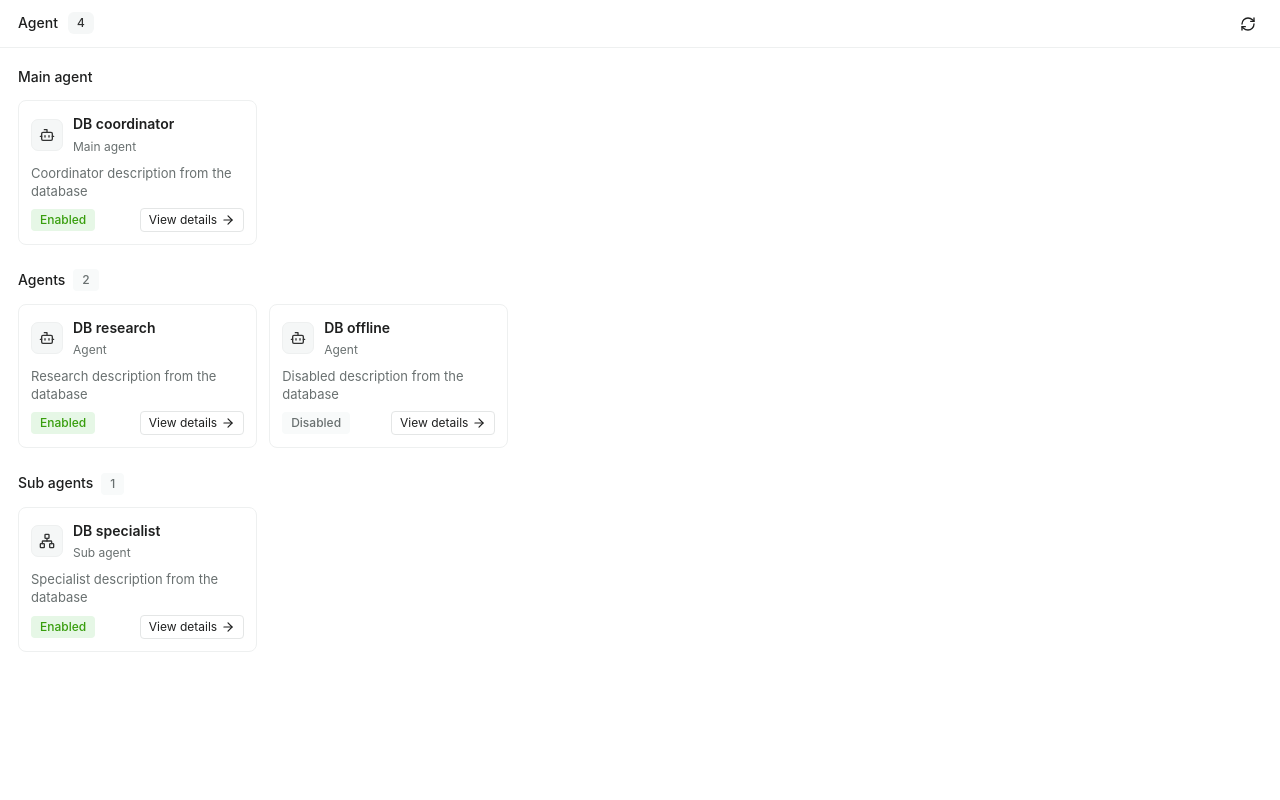
Test: discards the unsaved draft when closing with Cancel
Step 1. Click the button named "View DB research details" → coordinates (138, 376), box [19,305,256,447]
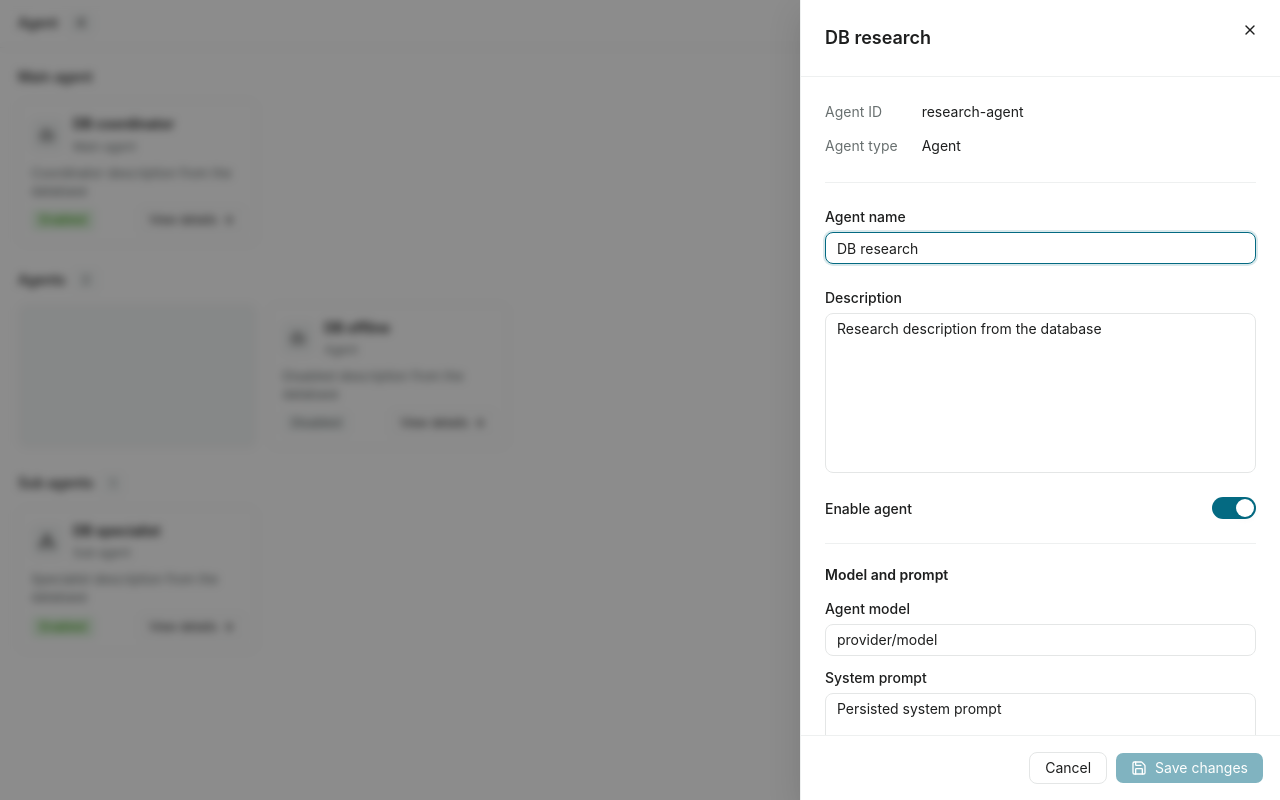
Step 2. Replace the text in the field labelled "Agent name" with "Unsaved name" → coordinates (1040, 248), box [825,232,1256,264]
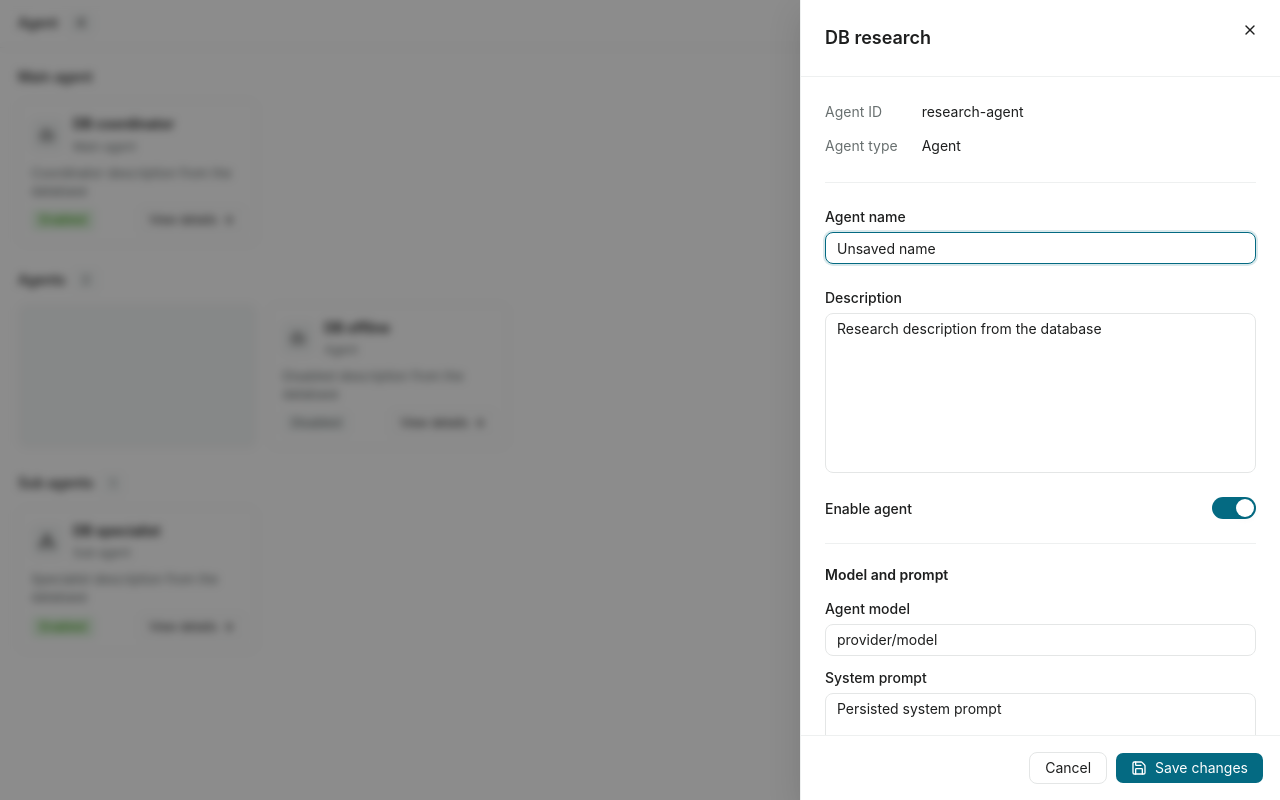
Step 3. Replace the text in the text box labelled "Description" with "Unsaved description" → coordinates (1040, 393), box [825,313,1256,473]
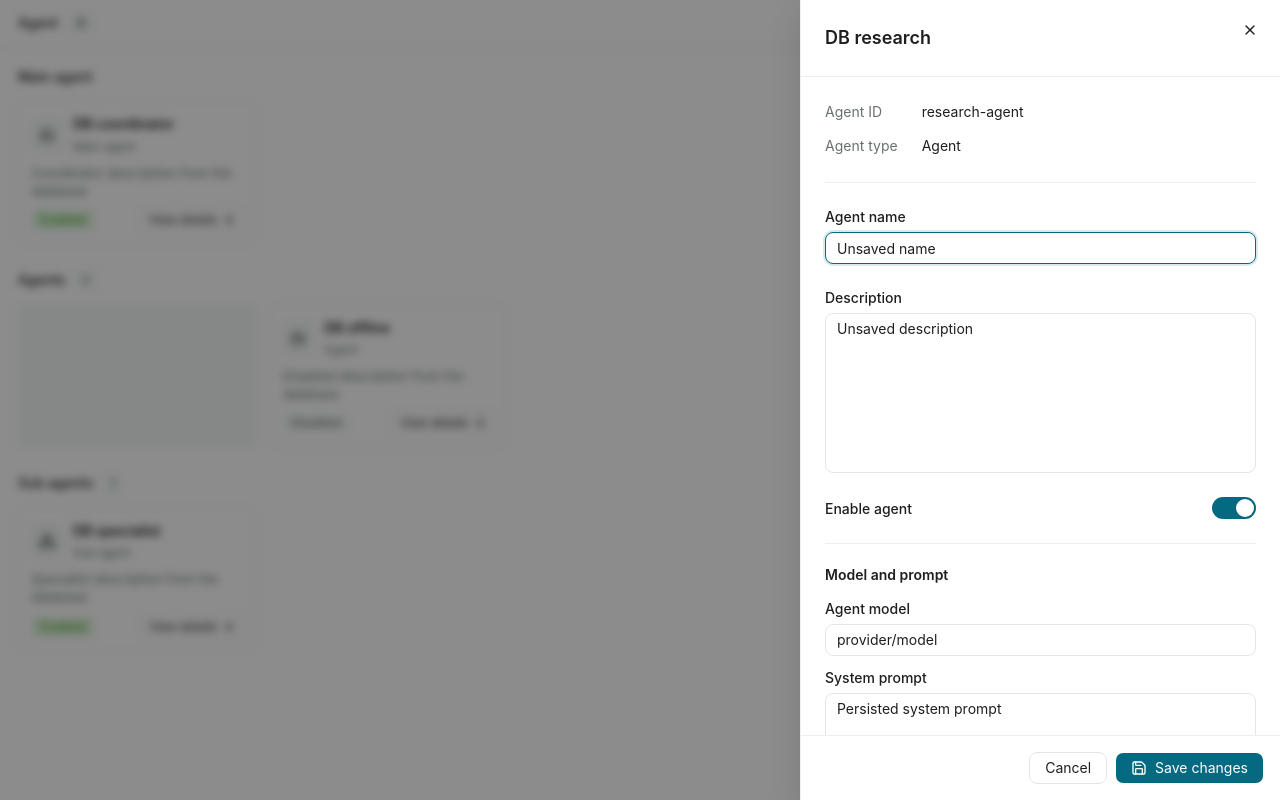
Step 4. Click the switch named "Enable agent" → coordinates (1234, 508), box [1212,497,1256,519]
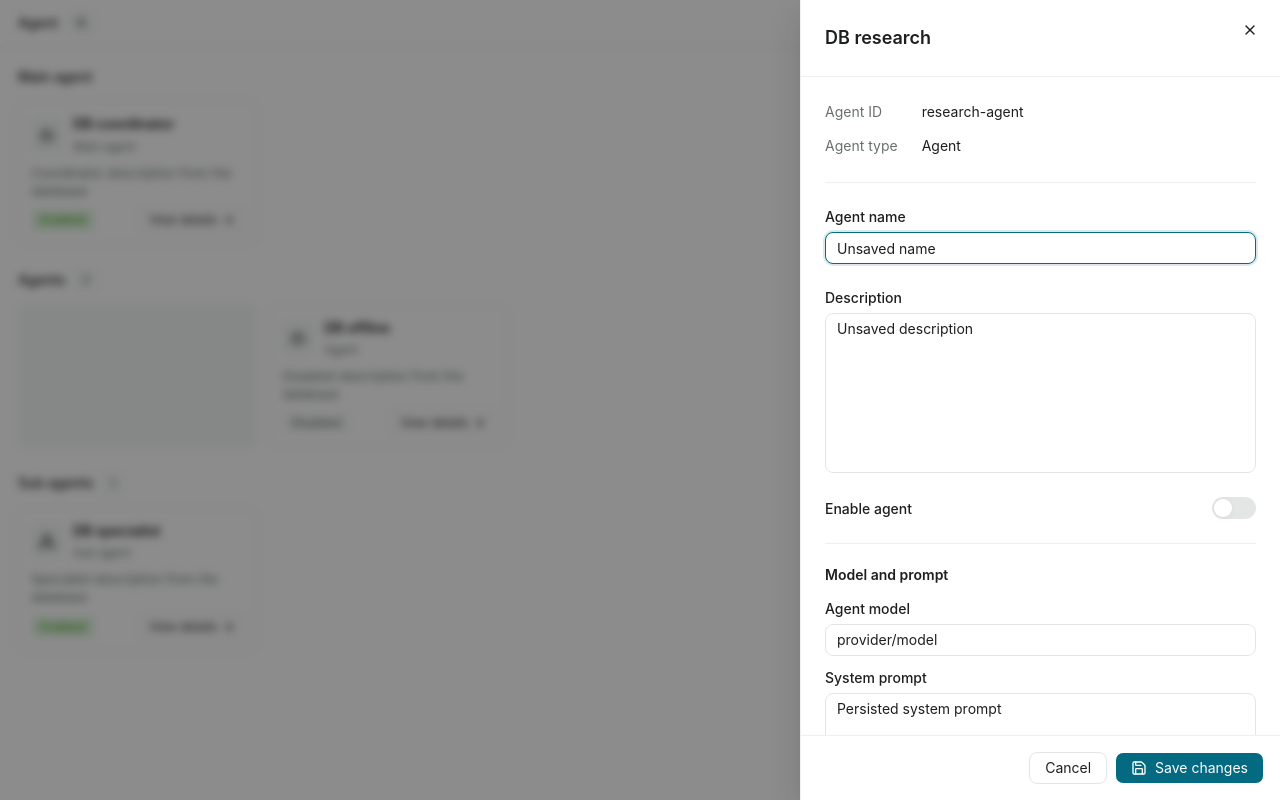
Step 5. Click the button "Cancel" → coordinates (1068, 768), box [1029,752,1107,784]
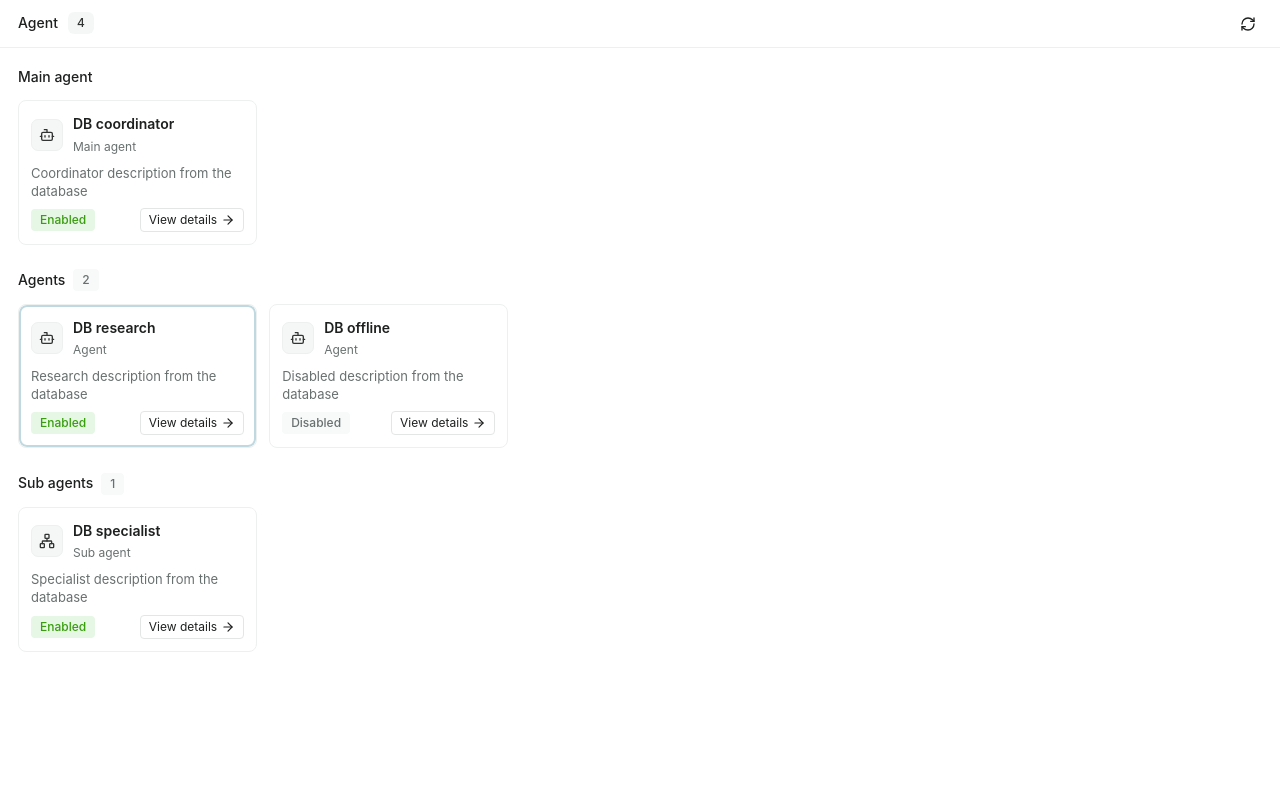
Result: the dialog is gone
Step 6. Click the button named "View DB research details" → coordinates (138, 376), box [19,305,256,447]
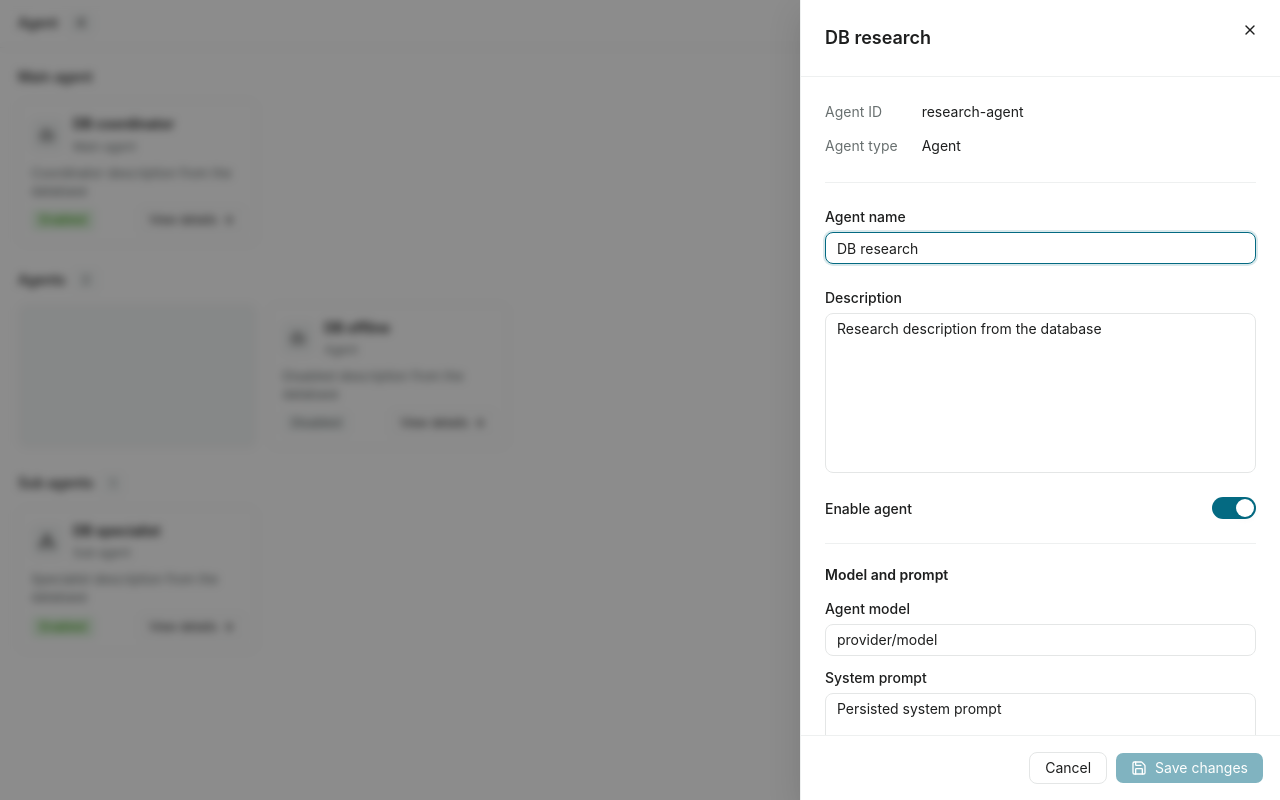
Result: the field labelled "Agent name" holds "DB research" at [825,232,1256,264]
Result: the text box labelled "Description" holds "Research description from the database" at [825,313,1256,473]
